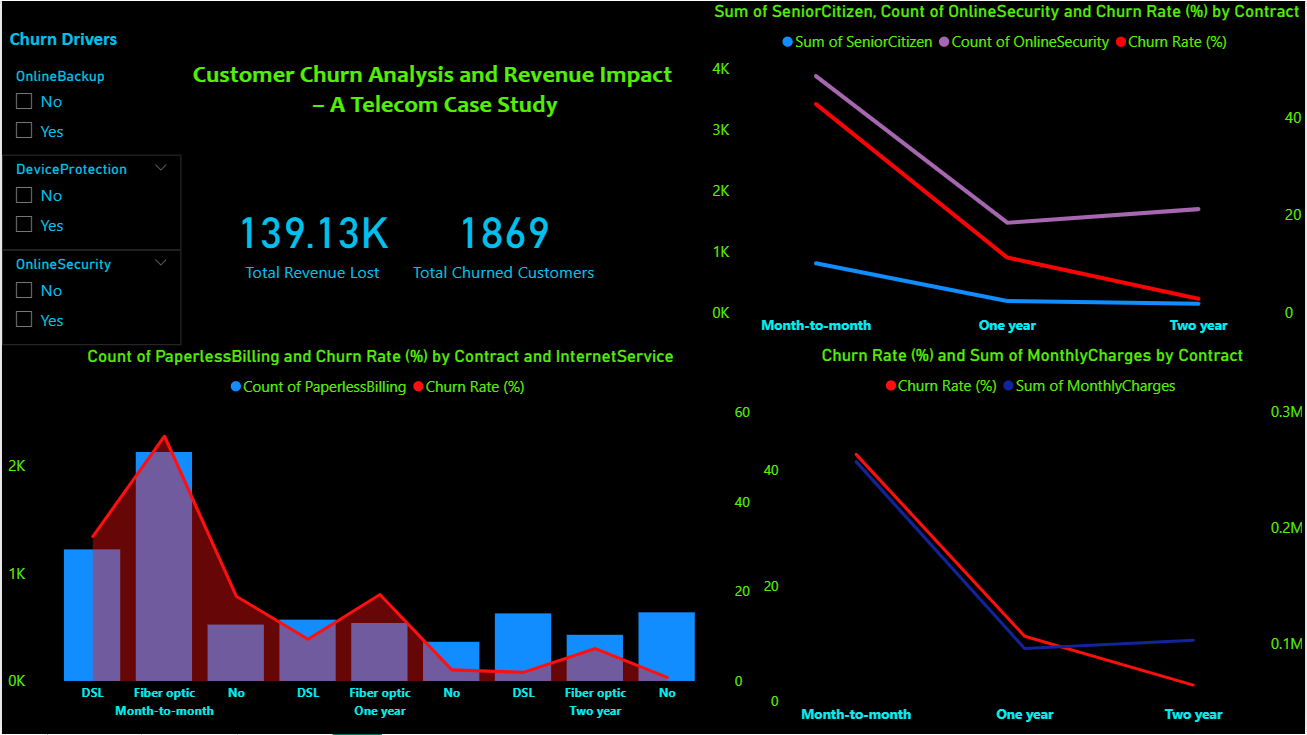

What the dashboard file says about the page in this screenshot:
{"tool":"powerbi","page":{"name":"Page 1","canvas":[1280,720],"ordinal":0},"visuals":[{"type":"lineChart","fields":{"Category":["WA_Fn-UseC_-Telco-Customer-Churn.Contract"],"Y":["WA_Fn-UseC_-Telco-Customer-Churn.Churn Rate (%)"],"Y2":["Sum(WA_Fn-UseC_-Telco-Customer-Churn.MonthlyCharges)"]},"box":[741.8,337.9,538.5,381.9],"z":0},{"type":"lineClusteredColumnComboChart","fields":{"Category":["WA_Fn-UseC_-Telco-Customer-Churn.Contract","WA_Fn-UseC_-Telco-Customer-Churn.InternetService"],"Y":["CountNonNull(WA_Fn-UseC_-Telco-Customer-Churn.PaperlessBilling)"],"Y2":["WA_Fn-UseC_-Telco-Customer-Churn.Churn Rate (%)"]},"box":[0,337.9,741.8,381.9],"z":1000},{"type":"lineChart","fields":{"Category":["WA_Fn-UseC_-Telco-Customer-Churn.Contract"],"Y":["Sum(WA_Fn-UseC_-Telco-Customer-Churn.SeniorCitizen)","CountNonNull(WA_Fn-UseC_-Telco-Customer-Churn.OnlineSecurity)"],"Y2":["WA_Fn-UseC_-Telco-Customer-Churn.Churn Rate (%)"]},"box":[691.6,0,588.7,337.6],"z":2000},{"type":"card","fields":{"Values":["WA_Fn-UseC_-Telco-Customer-Churn.Total Churned Customers"]},"box":[411.7,188,209.9,94.7],"z":3000},{"type":"card","fields":{"Values":["WA_Fn-UseC_-Telco-Customer-Churn.Total Revenue Lost"]},"box":[188,186.6,211.3,94.7],"z":4000},{"type":"slicer","fields":{"Values":["WA_Fn-UseC_-Telco-Customer-Churn.OnlineBackup"]},"box":[0,58.6,175.6,91.9],"z":5000},{"type":"slicer","fields":{"Values":["WA_Fn-UseC_-Telco-Customer-Churn.DeviceProtection"]},"box":[0,150.6,175.6,93.3],"z":6000},{"type":"textbox","box":[175.8,50.8,494.5,100.3],"z":7000},{"type":"slicer","fields":{"Values":["WA_Fn-UseC_-Telco-Customer-Churn.OnlineSecurity"]},"box":[0,243.9,175.6,93.3],"z":8000},{"type":"textbox","box":[0,17.8,175.6,41.2],"z":9000}]}

Visuals, with their boxes in screenshot pixels (x1, y1, x2, y2), scaled from the page's 1280x720 canvas onto the 1307x735 screenshot:
lineChart - WA_Fn-UseC_-Telco-Customer-Churn.Contract x WA_Fn-UseC_-Telco-Customer-Churn.Churn Rate (%): box(757, 345, 1306, 734)
lineClusteredColumnComboChart - WA_Fn-UseC_-Telco-Customer-Churn.Contract x WA_Fn-UseC_-Telco-Customer-Churn.InternetService: box(0, 345, 757, 734)
lineChart - WA_Fn-UseC_-Telco-Customer-Churn.Contract x Sum(WA_Fn-UseC_-Telco-Customer-Churn.SeniorCitizen): box(706, 0, 1306, 345)
card - WA_Fn-UseC_-Telco-Customer-Churn.Total Churned Customers: box(420, 192, 635, 289)
card - WA_Fn-UseC_-Telco-Customer-Churn.Total Revenue Lost: box(192, 190, 408, 287)
slicer - WA_Fn-UseC_-Telco-Customer-Churn.OnlineBackup: box(0, 60, 179, 154)
slicer - WA_Fn-UseC_-Telco-Customer-Churn.DeviceProtection: box(0, 154, 179, 249)
textbox: box(180, 52, 684, 154)
slicer - WA_Fn-UseC_-Telco-Customer-Churn.OnlineSecurity: box(0, 249, 179, 344)
textbox: box(0, 18, 179, 60)
